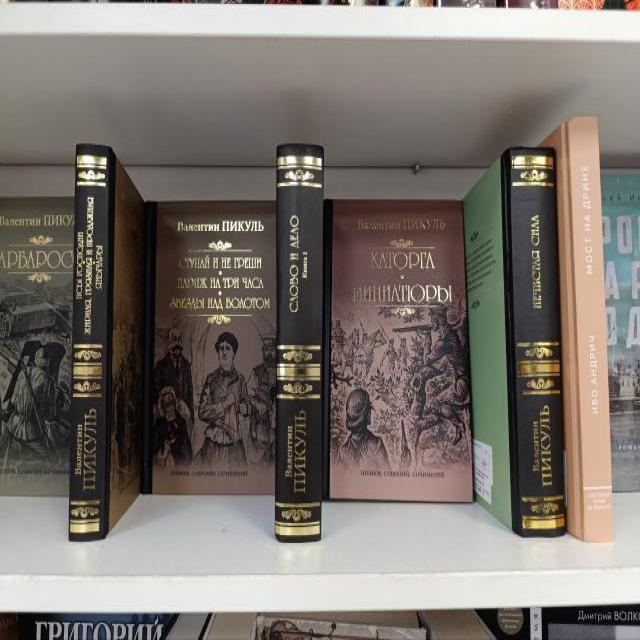book: (508, 147, 567, 538), (567, 120, 615, 542), (274, 143, 324, 543), (70, 145, 107, 542)
